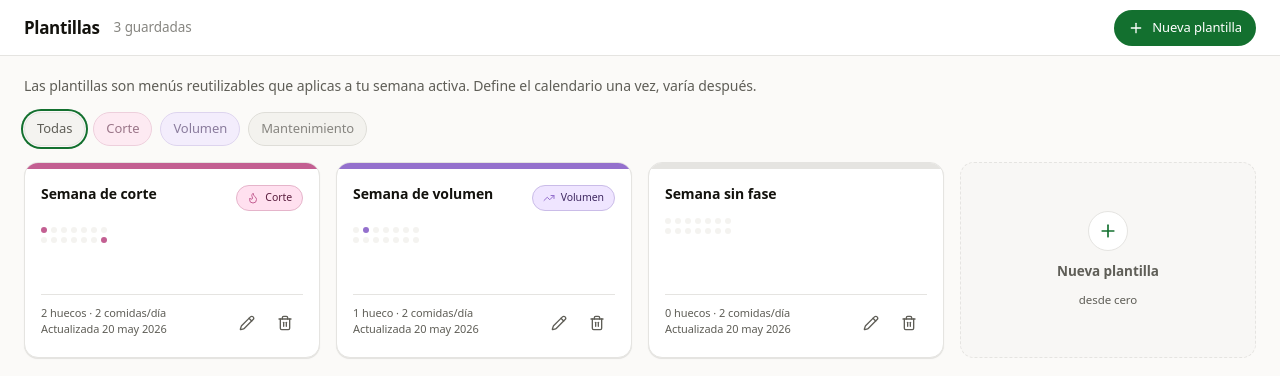
Test: PlantillasPage › filters by phase: picking "Corte" leaves only the cut template
Click the radio button labelled "Corte" at [123, 129], box [93, 112, 152, 146]
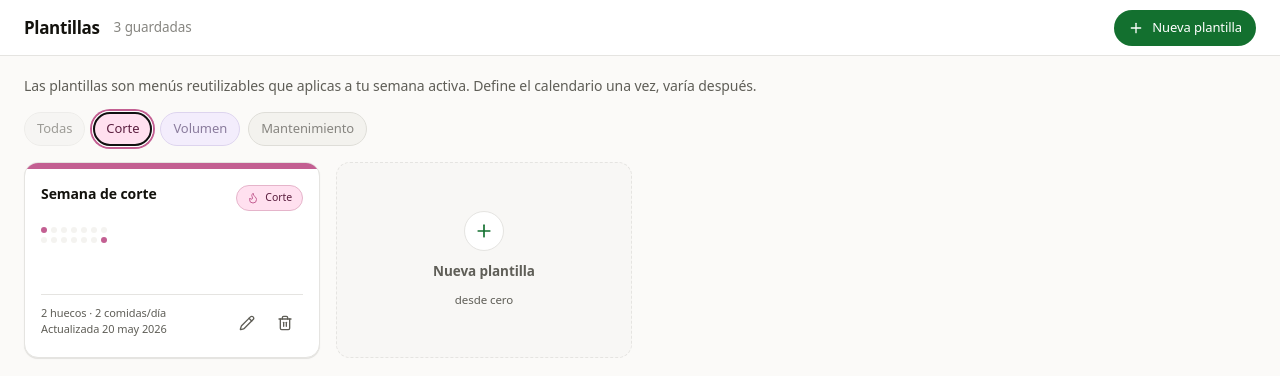
Expected: the link "Semana de corte" is shown, [41, 184, 157, 202]
Expected: the link "Semana de volumen" is gone
Expected: the link "Semana sin fase" is gone
